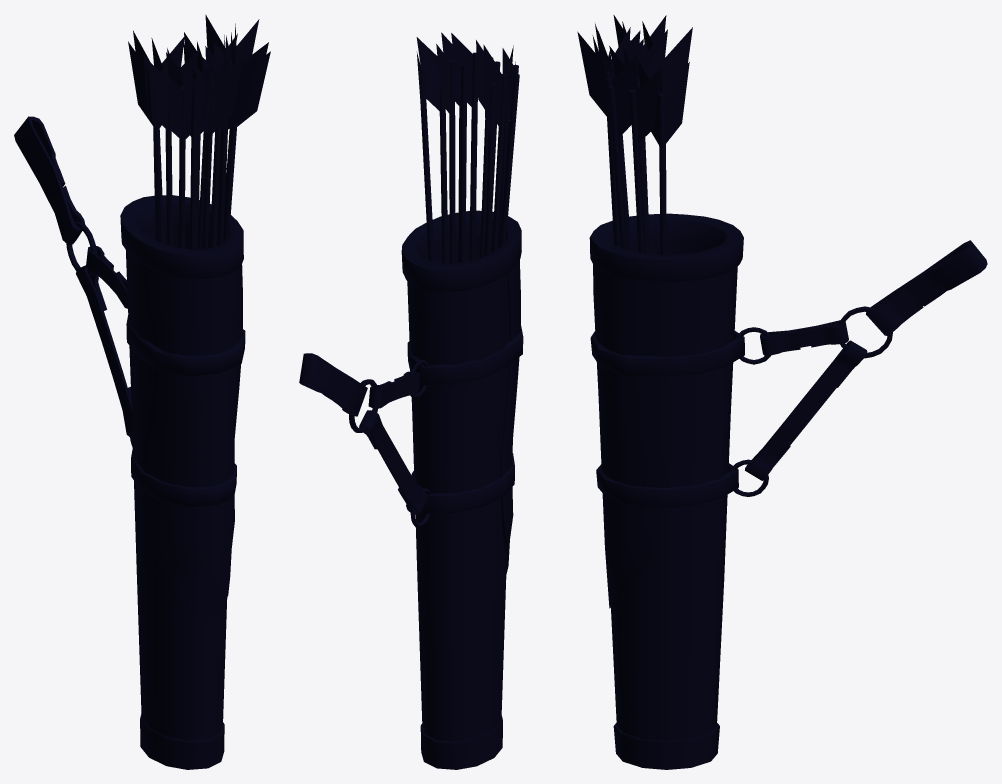
Rendered from QuiverArrowsMerged_LP.fbx.
The picture shows the model from 3 angles, left to right: view 1: azimuth 30°, elevation 25°; view 2: azimuth 150°, elevation 25°; view 3: azimuth 270°, elevation 25°; orthographic projection. The views are drawn at different scales.
Parts seen in each view (by area): view 1: QuiverBucket_LP, QuiverLeather_LP, Fleche_LP005, Fleche_LP003, Fleche_LP008, Fleche_LP009, Fleche_LP001, Fleche_LP004, Fleche_LP002, Fleche_LP010, Fleche_LP006, Fleche_LP013 (+3 smaller); view 2: QuiverBucket_LP, QuiverLeather_LP, Fleche_LP001, Fleche_LP007, Fleche_LP010, Fleche_LP009, Fleche_LP011, Fleche_LP012, Fleche_LP013, Fleche_LP008, Fleche_LP005, Fleche_LP004 (+3 smaller); view 3: QuiverBucket_LP, QuiverLeather_LP, Fleche_LP012, Fleche_LP004, Fleche_LP007, Fleche_LP002, Fleche_LP011, Fleche_LP001, Fleche_LP006, Fleche_LP013, Fleche_LP010.
Part boxes in pixels (<box>): QuiverBucket_LP: <box>120,195,243,769</box>; QuiverLeather_LP: <box>14,116,245,507</box>; Fleche_LP005: <box>195,41,244,249</box>; Fleche_LP003: <box>166,48,214,248</box>; Fleche_LP008: <box>128,41,181,243</box>; Fleche_LP009: <box>150,38,198,246</box>; Fleche_LP001: <box>201,35,257,245</box>; Fleche_LP004: <box>217,32,270,242</box>; Fleche_LP002: <box>166,49,219,249</box>; Fleche_LP010: <box>205,23,253,248</box>; Fleche_LP006: <box>182,42,230,249</box>; Fleche_LP013: <box>184,32,237,249</box>; QuiverBucket_LP: <box>401,210,521,769</box>; QuiverLeather_LP: <box>299,326,523,527</box>; Fleche_LP001: <box>451,33,477,260</box>; Fleche_LP007: <box>416,37,448,263</box>; Fleche_LP010: <box>436,44,455,263</box>; Fleche_LP009: <box>490,58,507,252</box>; Fleche_LP011: <box>484,69,495,255</box>; Fleche_LP012: <box>416,51,434,261</box>; Fleche_LP013: <box>459,57,467,262</box>; Fleche_LP008: <box>499,61,519,247</box>; Fleche_LP005: <box>476,40,493,257</box>; Fleche_LP004: <box>441,32,460,262</box>; QuiverBucket_LP: <box>589,213,743,769</box>; QuiverLeather_LP: <box>590,240,987,508</box>; Fleche_LP012: <box>637,59,689,254</box>; Fleche_LP004: <box>602,48,639,249</box>; Fleche_LP007: <box>630,69,659,253</box>; Fleche_LP002: <box>577,27,630,245</box>; Fleche_LP011: <box>642,21,692,254</box>; Fleche_LP001: <box>606,56,636,247</box>; Fleche_LP006: <box>598,31,643,250</box>; Fleche_LP013: <box>609,43,662,253</box>; Fleche_LP010: <box>623,45,648,253</box>.
Size of the model in its own units: 14.8 by 76.25 by 39.65.
